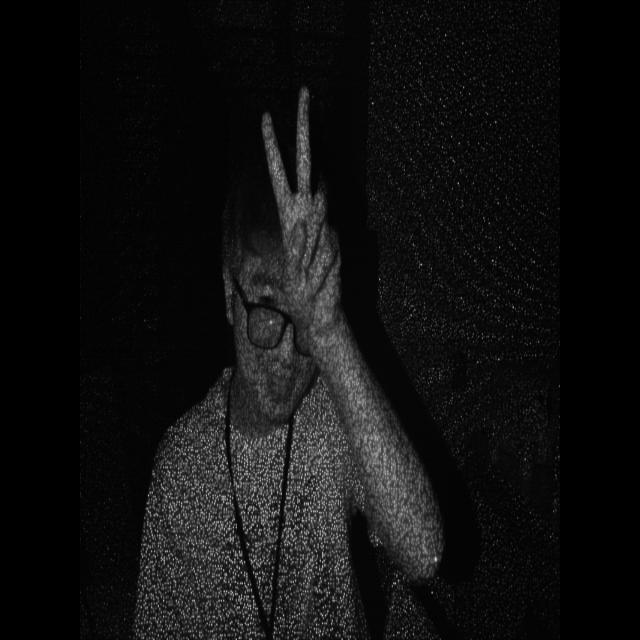V: (258, 74, 352, 345)
